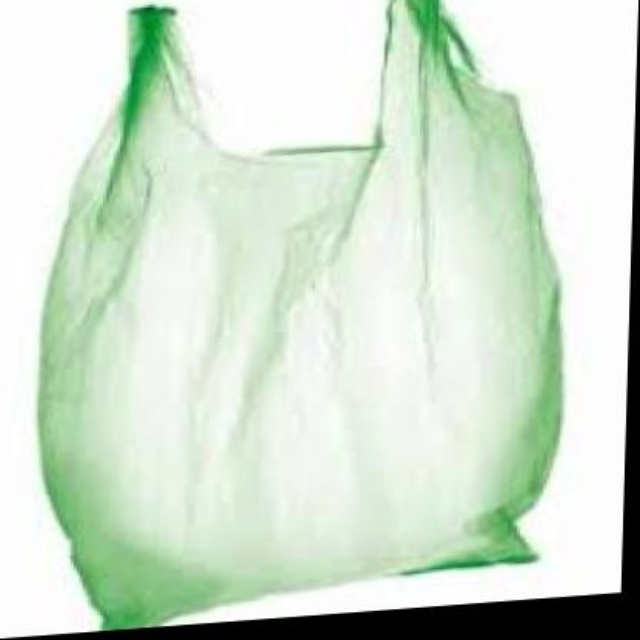trash: (38, 0, 560, 626)
